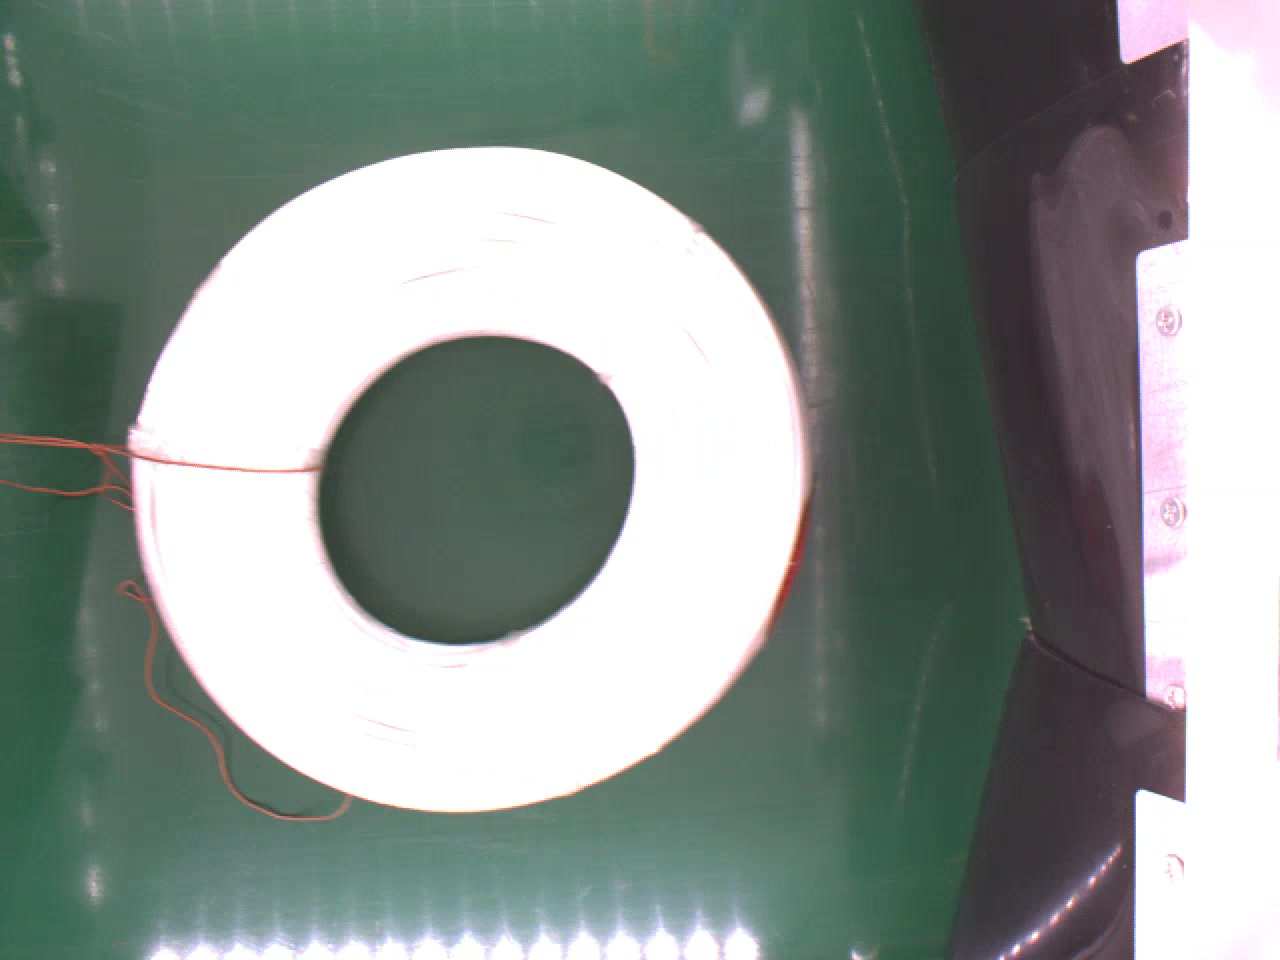white: (131, 144, 813, 809)
